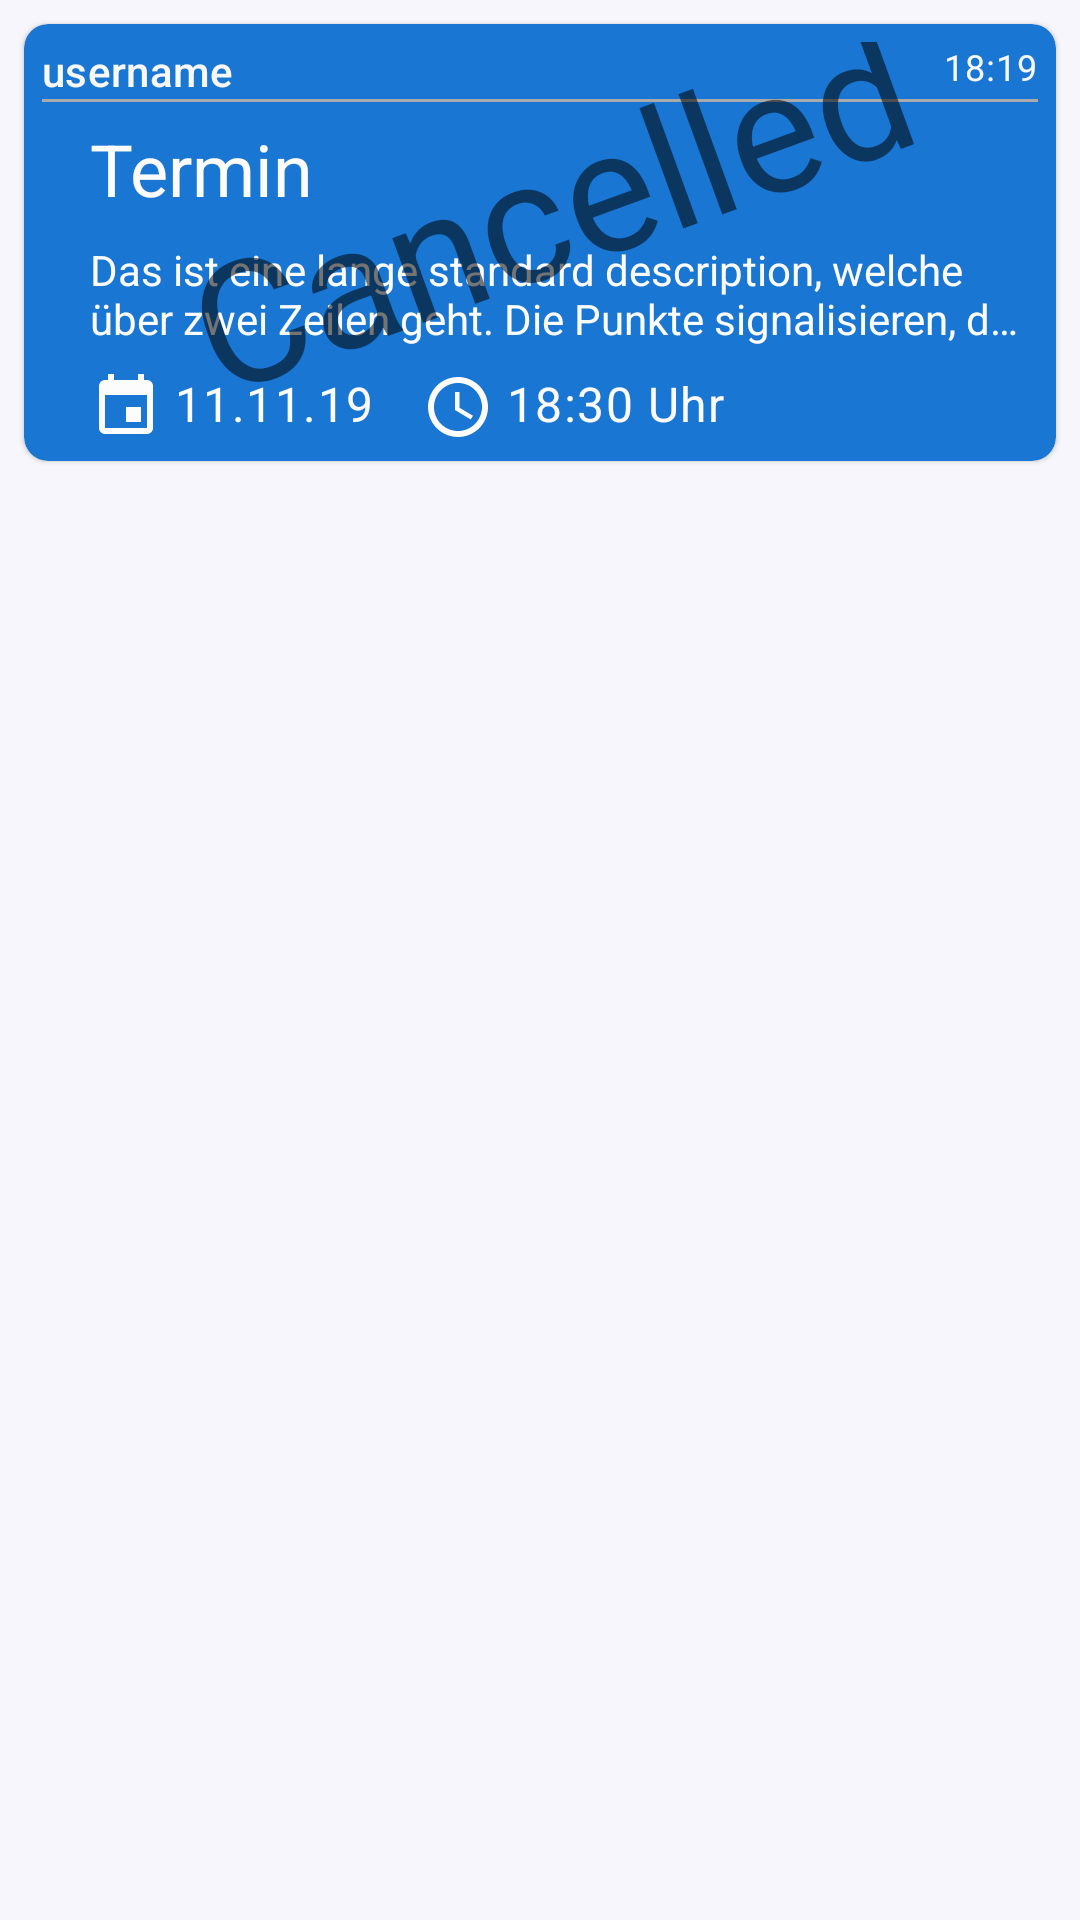

Point at icon controls on the screen. Image size 1080 × 1920, points as point (x, y).
access time: point (458, 407)
event: point (126, 404)
